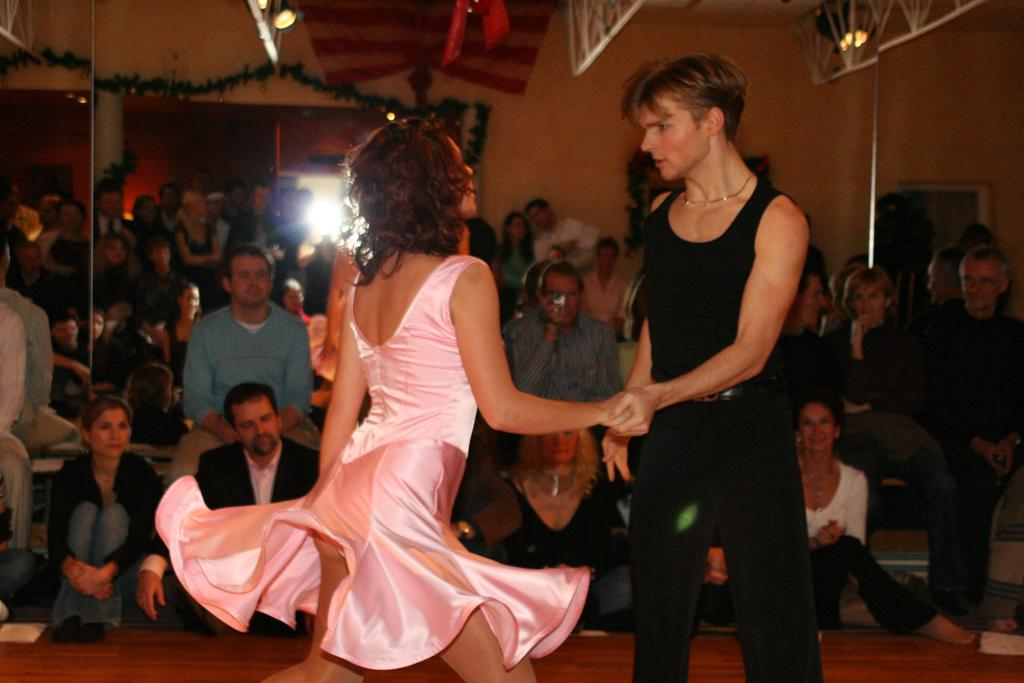face: (635, 98, 703, 180), (420, 133, 477, 219), (233, 396, 277, 454), (960, 255, 999, 311), (231, 255, 268, 304), (793, 271, 825, 326), (91, 408, 129, 454), (542, 415, 577, 463), (545, 273, 578, 320), (802, 402, 832, 453), (853, 281, 884, 323), (53, 320, 78, 346), (596, 246, 615, 277), (105, 239, 126, 264), (183, 288, 200, 316), (528, 204, 547, 227), (152, 245, 171, 267), (87, 313, 103, 339), (286, 288, 303, 311), (511, 218, 526, 241), (547, 251, 562, 271)
